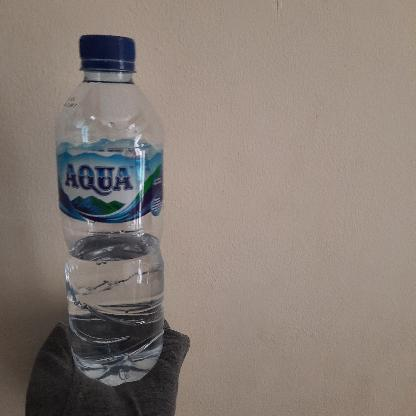Plastic Bottle: (50, 31, 168, 388)
